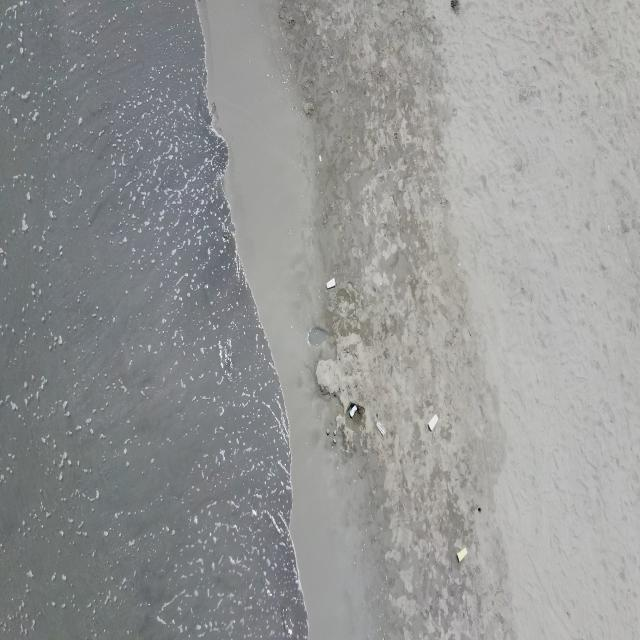takeaway-cup: (428, 414, 438, 433), (457, 546, 468, 562), (326, 276, 337, 290), (376, 422, 386, 436), (349, 404, 357, 420)
